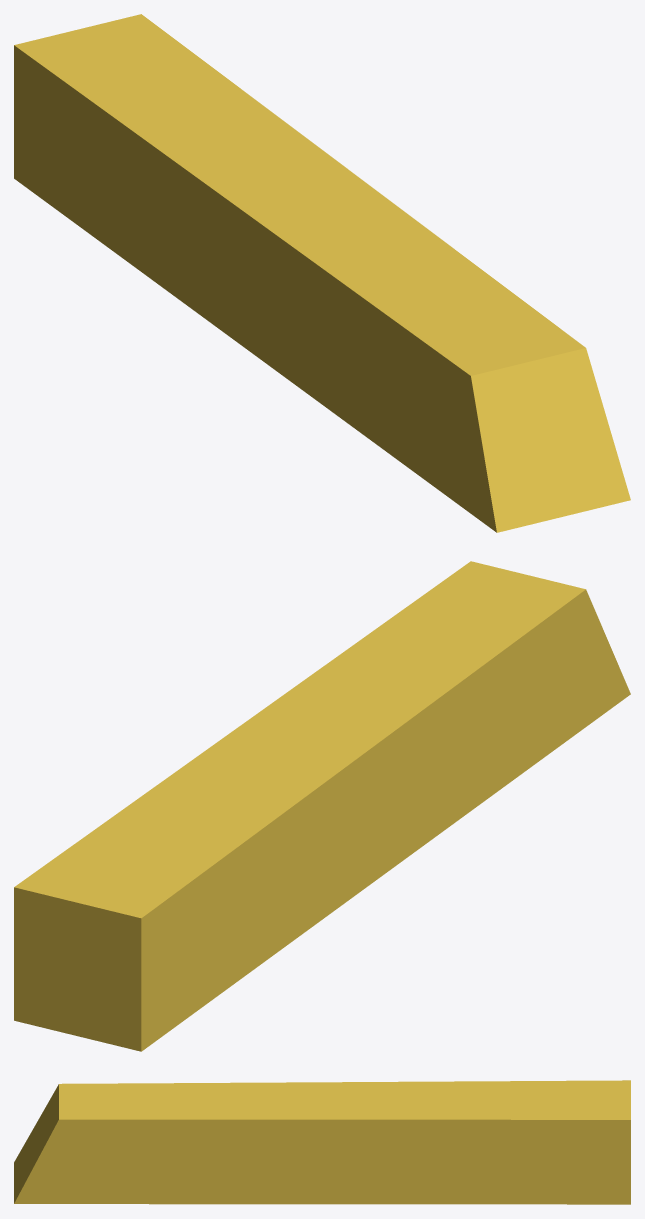
Rendered from chip2.fbx.
3 views of the same model, one above another, from view 1: azimuth 30°, elevation 25°; view 2: azimuth 150°, elevation 25°; view 3: azimuth 270°, elevation 25° (orthographic). The views are drawn at different scales.
Parts seen in each view (by area): view 1: Cube; view 2: Cube; view 3: Cube.
Part boxes in pixels (x1,y1,x2,y2): Cube: [14, 14, 630, 532]; Cube: [14, 561, 630, 1051]; Cube: [14, 1080, 630, 1204].
Size of the model in its own units: 26.88 by 25.56 by 169.
Materials: 1 (1 with a texture image).
